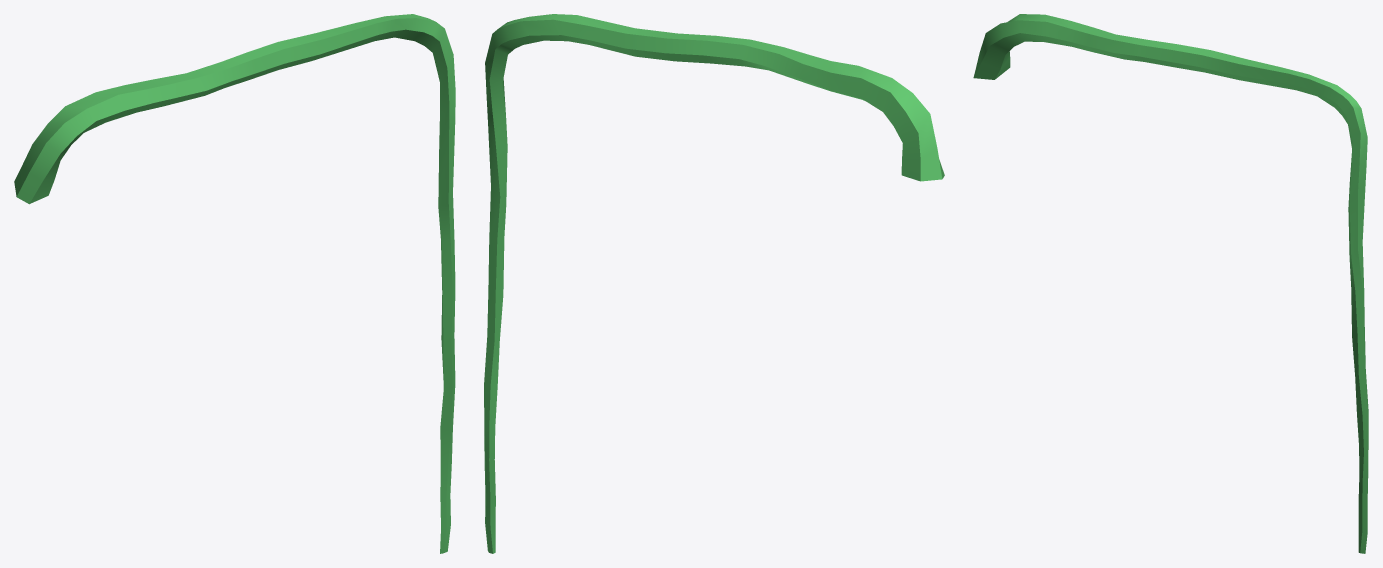
Rendered from roots_solo_A_B.fbx.
3 renders of one model, left to right at view 1: azimuth 30°, elevation 25°; view 2: azimuth 150°, elevation 25°; view 3: azimuth 330°, elevation 25°, orthographic. The views are drawn at different scales.
Visible parts, largest first — view 1: roots_solo_A_B; view 2: roots_solo_A_B; view 3: roots_solo_A_B.
Part boxes in pixels (<box>): roots_solo_A_B: <box>14,14,455,553</box>; roots_solo_A_B: <box>484,14,944,553</box>; roots_solo_A_B: <box>973,14,1368,553</box>.
Size of the model in its own units: 227 by 269 by 27.52.
